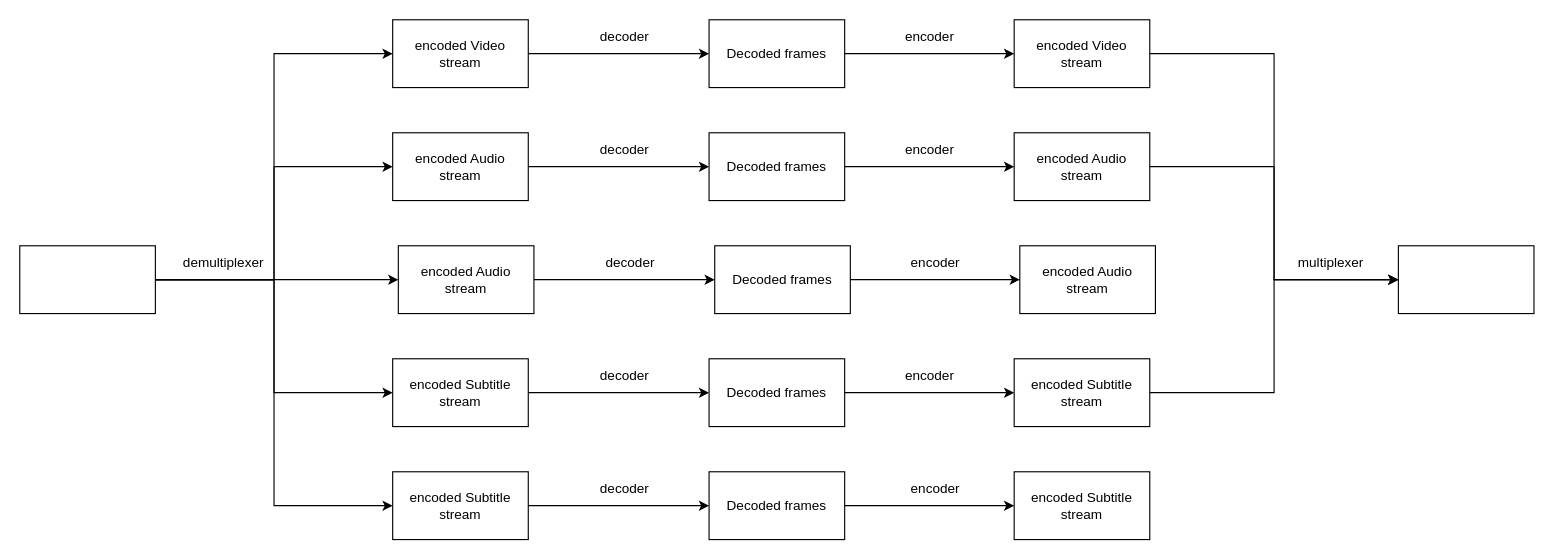
The diagram is 1554 pixels wide and 559 high, and some of its shapes have lost their labels. The box of each missing label's shape, as (x1, y1, x2, y2) in pixels:
Input: (19, 245, 155, 314)
Output: (1397, 245, 1534, 314)
